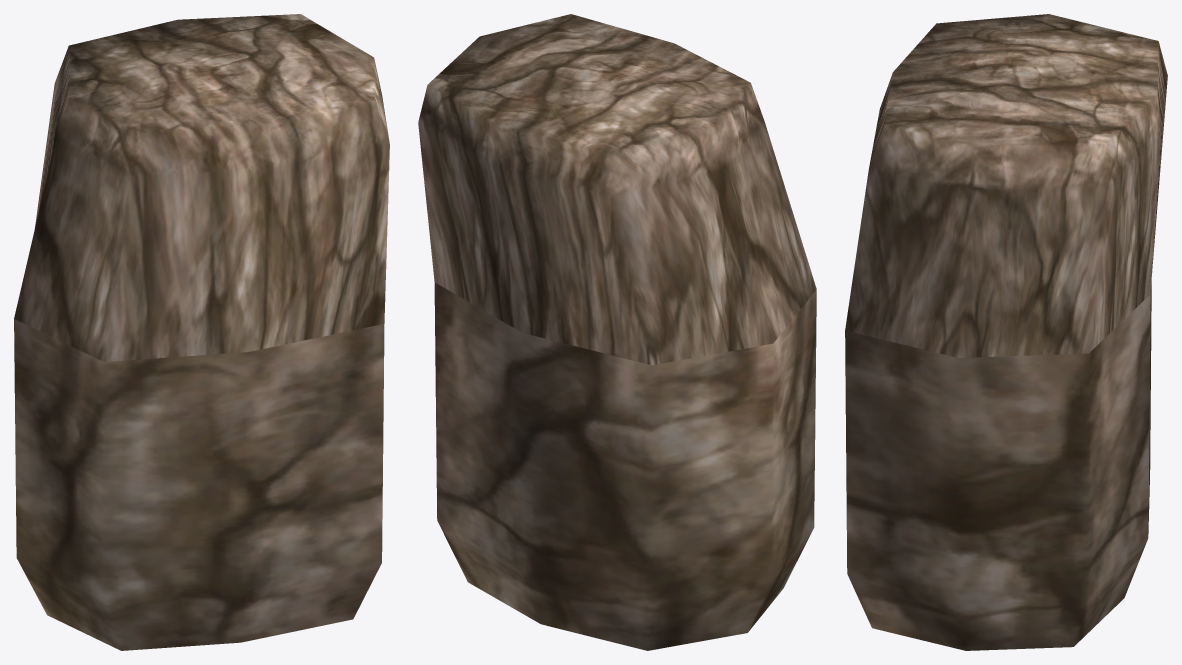
Rendered from OVERHILL_A_01_LINE08.fbx.
The picture shows the model from 3 angles, left to right: view 1: azimuth 30°, elevation 25°; view 2: azimuth 150°, elevation 25°; view 3: azimuth 270°, elevation 25°; orthographic projection. The views are drawn at different scales.
Visible parts, largest first — view 1: OVERHILL_A_01_LINE08; view 2: OVERHILL_A_01_LINE08; view 3: OVERHILL_A_01_LINE08.
Part boxes in pixels (left/top/right/bottom): OVERHILL_A_01_LINE08: left=14, top=14, right=389, bottom=650; OVERHILL_A_01_LINE08: left=418, top=14, right=816, bottom=650; OVERHILL_A_01_LINE08: left=845, top=14, right=1167, bottom=650.
Bounding box in the file's own units: 20771 × 30685 × 17020.
1 material, 1 textured.
